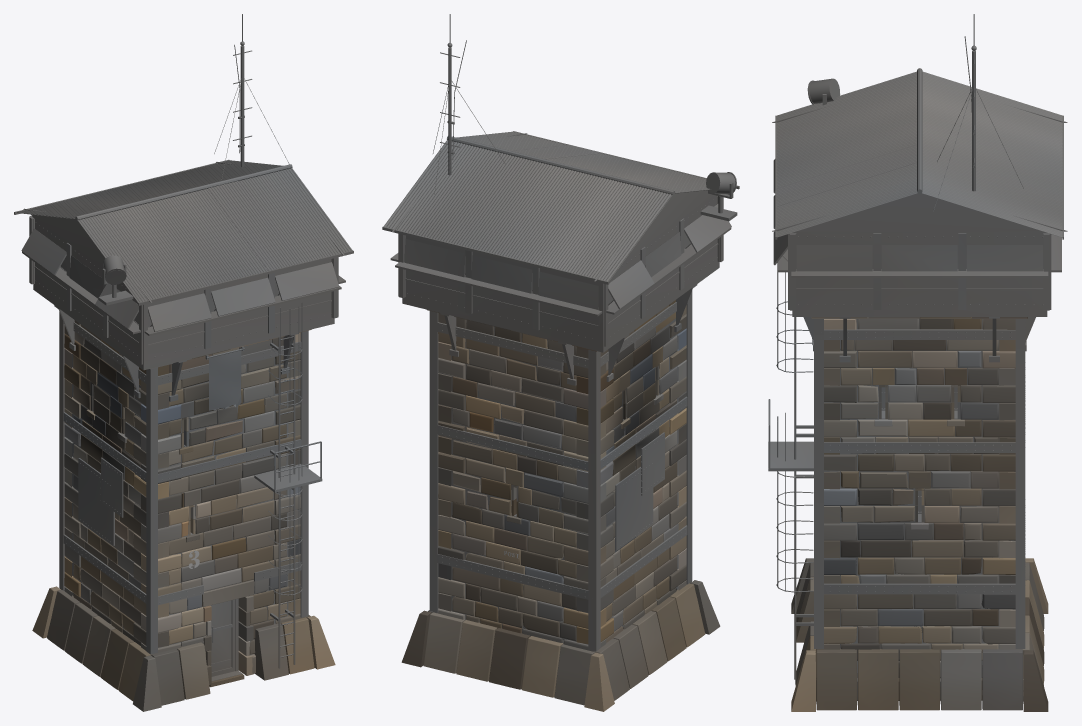
Rendered from Watchtower3_LOD0.glb.
3 views of the same model, side by side, from view 1: azimuth 30°, elevation 25°; view 2: azimuth 150°, elevation 25°; view 3: azimuth 270°, elevation 25° (orthographic). The views are drawn at different scales.
Parts seen in each view (by area): view 1: Watchtower3_Masonry_LOD0, Watchtower3_Metal_LOD0, Watchtower3_Roof_LOD0, Watchtower3_Trim_LOD0, Watchtower3_Canvas_LOD0, Watchtower3_Hardware_LOD0; view 2: Watchtower3_Masonry_LOD0, Watchtower3_Metal_LOD0, Watchtower3_Roof_LOD0, Watchtower3_Trim_LOD0; view 3: Watchtower3_Masonry_LOD0, Watchtower3_Metal_LOD0, Watchtower3_Roof_LOD0, Watchtower3_Trim_LOD0.
Boxes of the visible parts, x1,y1,x2,y2 form: Watchtower3_Masonry_LOD0: [64, 320, 305, 673]; Watchtower3_Metal_LOD0: [14, 14, 353, 681]; Watchtower3_Roof_LOD0: [15, 160, 352, 302]; Watchtower3_Trim_LOD0: [32, 329, 335, 711]; Watchtower3_Canvas_LOD0: [209, 350, 241, 410]; Watchtower3_Hardware_LOD0: [35, 222, 331, 657]; Watchtower3_Masonry_LOD0: [433, 300, 686, 651]; Watchtower3_Metal_LOD0: [382, 14, 739, 651]; Watchtower3_Roof_LOD0: [383, 131, 738, 281]; Watchtower3_Trim_LOD0: [401, 309, 720, 711]; Watchtower3_Masonry_LOD0: [816, 317, 1023, 701]; Watchtower3_Metal_LOD0: [768, 14, 1063, 679]; Watchtower3_Roof_LOD0: [772, 71, 1067, 237]; Watchtower3_Trim_LOD0: [791, 317, 1048, 711].
Bounding box in the file's own units: 7.05 × 16.92 × 6.62.
